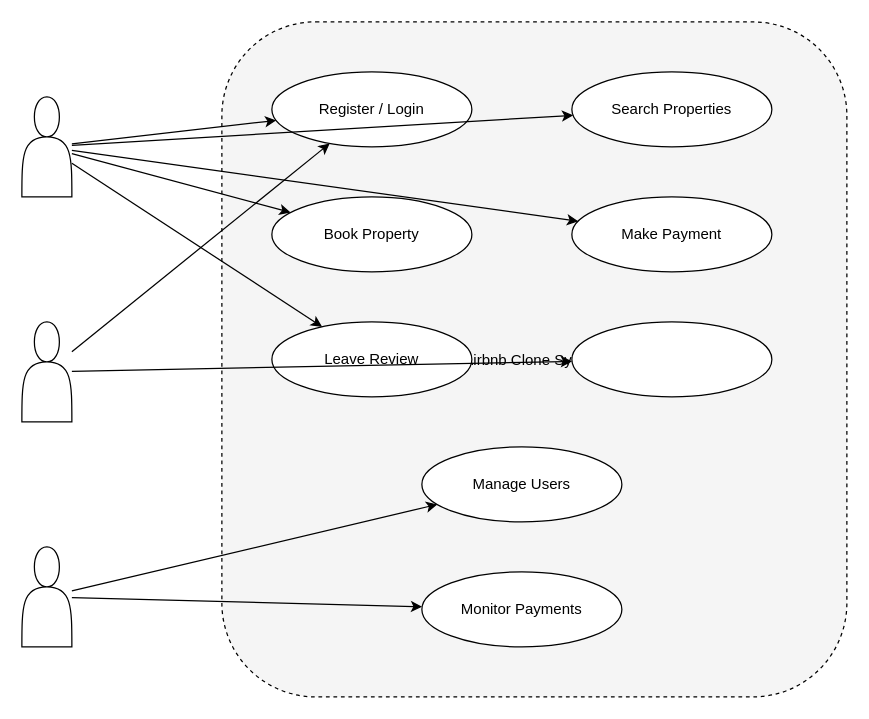
This 869x719 diagram has some shape labels left out. Each missing label, with the box of its shape:
Admin: (21, 546, 72, 647)
Guest: (21, 96, 72, 197)
Host: (21, 321, 72, 422)
Manage Listings: (571, 321, 772, 397)
